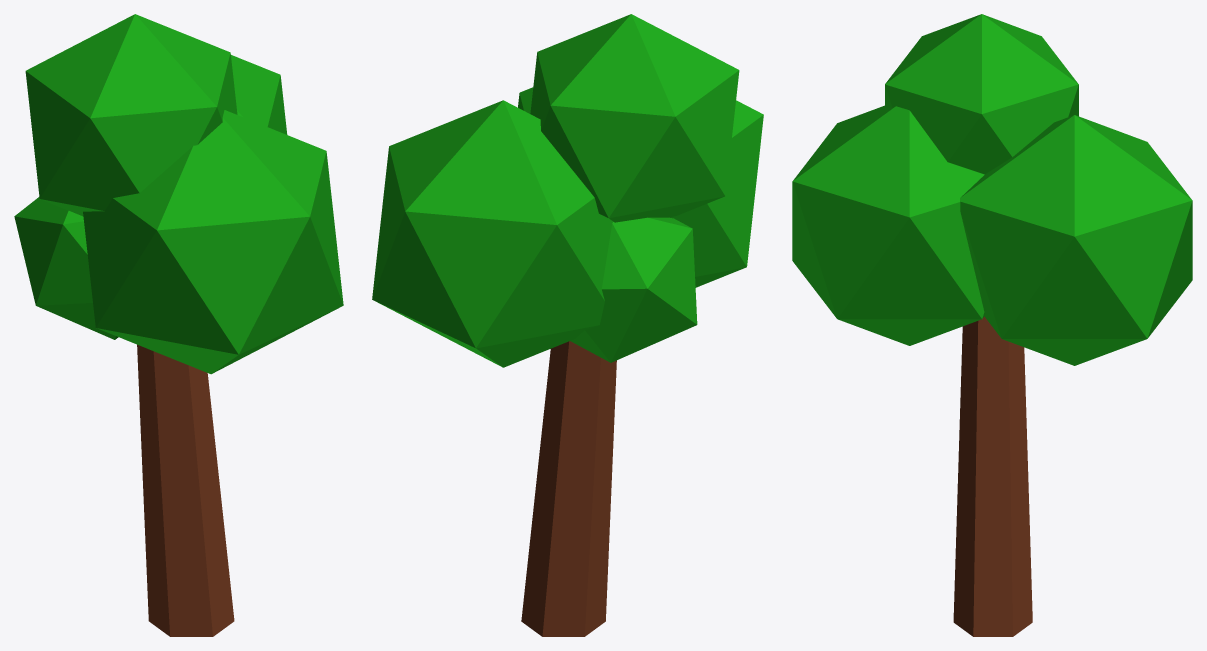
The model's file is Tree1.fbx.
3 views of the same model, side by side, from view 1: azimuth 30°, elevation 25°; view 2: azimuth 150°, elevation 25°; view 3: azimuth 270°, elevation 25° (orthographic). The views are drawn at different scales.
Parts seen in each view (by area): view 1: tree 4; view 2: tree 4; view 3: tree 4.
Part boxes in pixels (x1=…): tree 4: x1=14, y1=14, x2=343, y2=636; tree 4: x1=372, y1=14, x2=763, y2=636; tree 4: x1=792, y1=14, x2=1192, y2=636.
Bounding box in the file's own units: 440 × 905 × 566.
